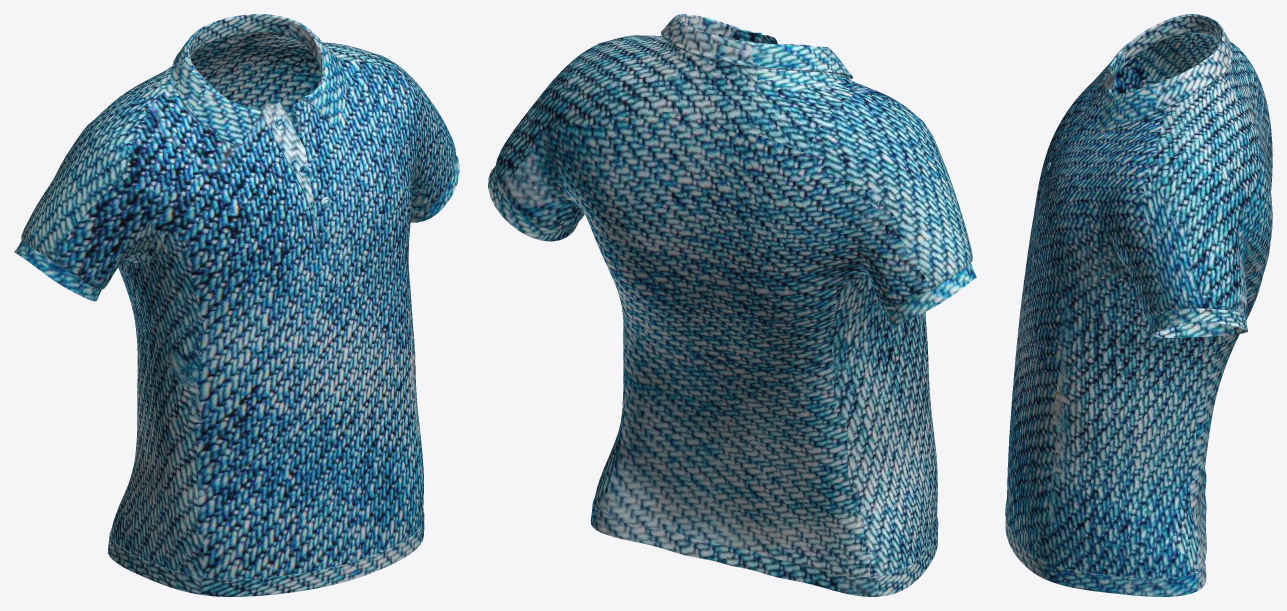
The picture shows the model from 3 angles, left to right: view 1: azimuth 30°, elevation 25°; view 2: azimuth 150°, elevation 25°; view 3: azimuth 270°, elevation 25°; orthographic projection. The views are drawn at different scales.
Parts seen in each view (by area): view 1: polotshit; view 2: polotshit; view 3: polotshit.
Boxes of the visible parts, x1,y1,x2,y2 form: polotshit: [14, 14, 459, 596]; polotshit: [488, 14, 976, 596]; polotshit: [1005, 14, 1272, 596].
Bounding box in the file's own units: 58.22 × 62.88 × 30.91.
